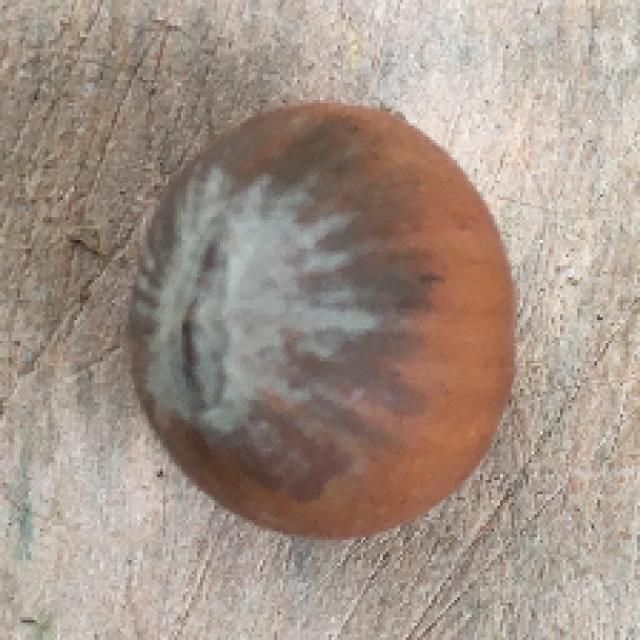qualityHazelnut: (117, 84, 520, 543)
